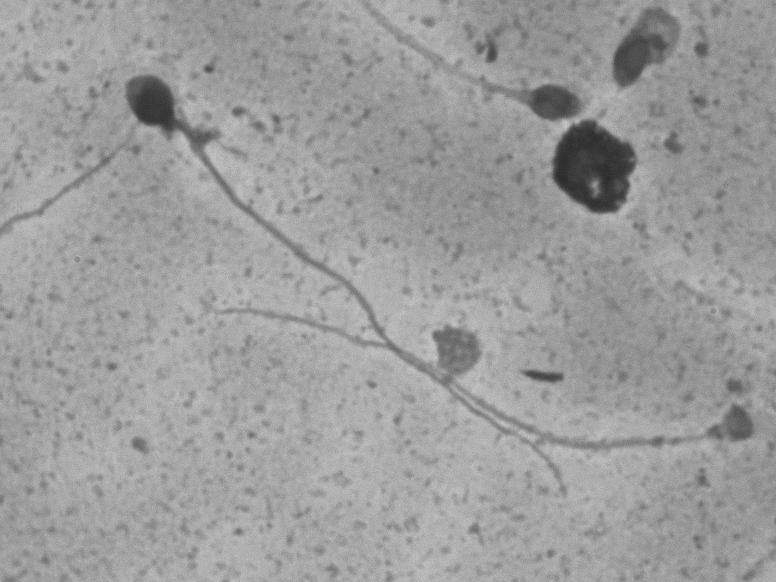Abnormal: (600, 10, 733, 114)
Normal: (105, 41, 584, 506)
